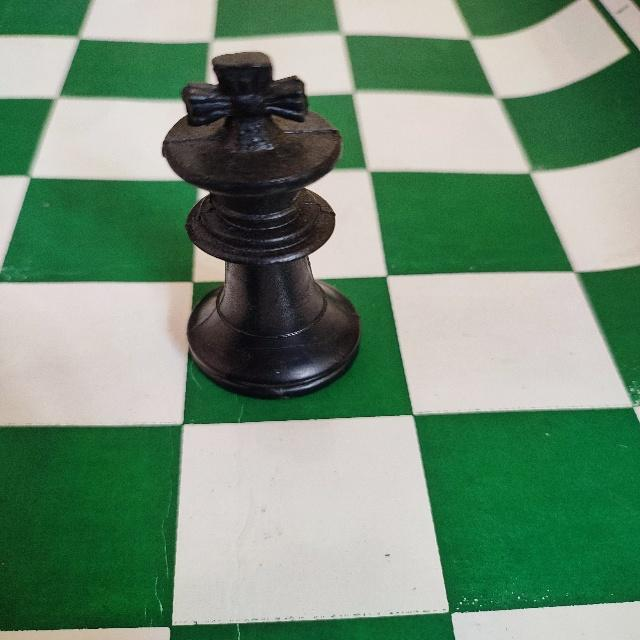King: (154, 46, 367, 406)
